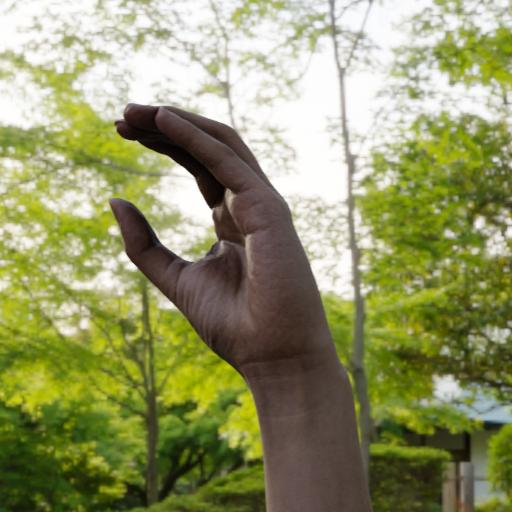C: (78, 81, 395, 423)
